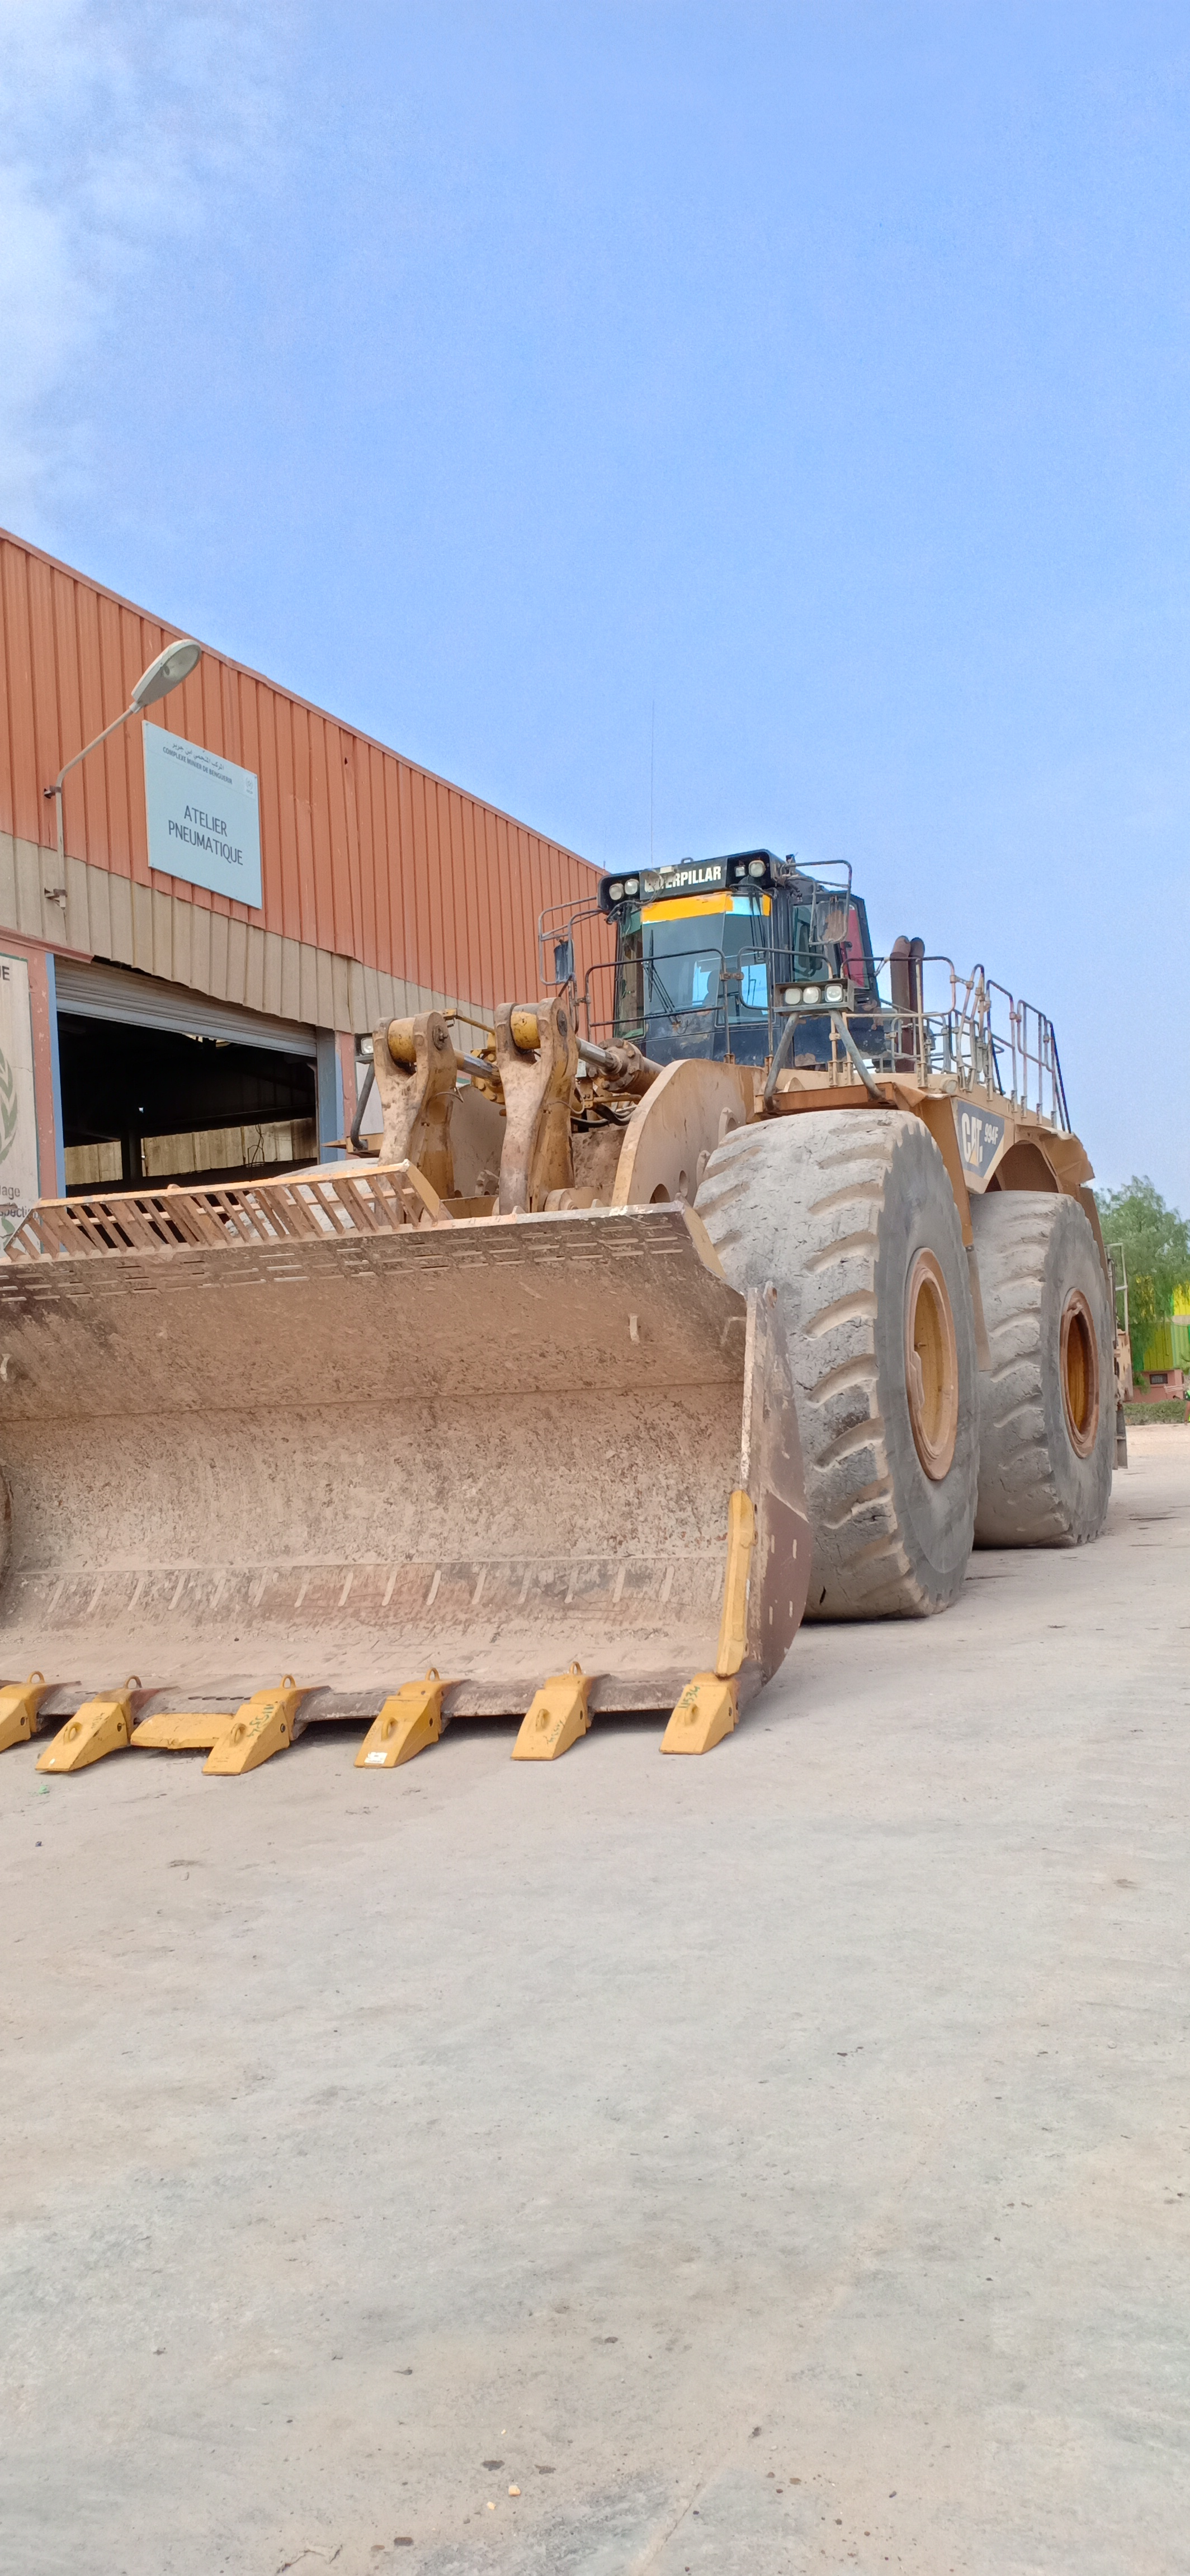chargeuse: (0, 828, 1152, 1758)
